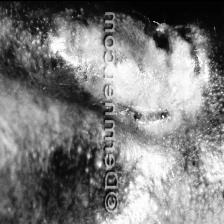Potentially Malignant Skin Tumors: (116, 11, 208, 124)
